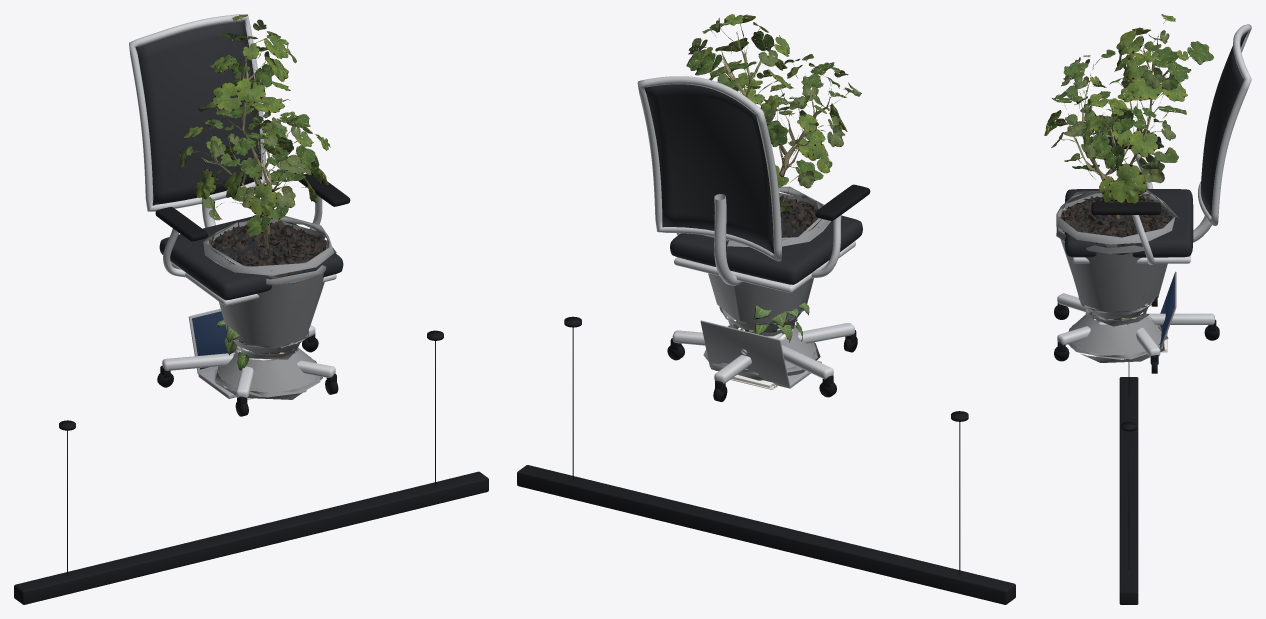
The model's file is props.glb.
3 renders of one model, left to right at view 1: azimuth 30°, elevation 25°; view 2: azimuth 150°, elevation 25°; view 3: azimuth 270°, elevation 25°, orthographic. The views are drawn at different scales.
Visible parts, largest first — view 1: chair_back, potted_plant_01_leaves, potted_plant_01_pot, pd_housing, chair_seat, chair_backframe, potted_plant_01_pebbles, lo_screen, chair_spoke1, potted_plant_01_stem, chair_armpad-1, chair_armpad1; view 2: chair_back, pd_housing, potted_plant_01_leaves, potted_plant_01_pot, chair_seat, chair_backframe, lo_lidshell, chair_spine, chair_pan, potted_plant_01_stem, chair_armpad-1, potted_plant_01_pebbles (+3 smaller); view 3: potted_plant_01_leaves, potted_plant_01_pot, pd_housing, chair_seat, chair_back, potted_plant_01_pebbles, chair_backframe, chair_armpad1, potted_plant_01_stem, chair_spoke0, lo_screen, chair_pan (+4 smaller).
Boxes of the visible parts, x1,y1,x2,y2 form: chair_back: (135,20,261,205); potted_plant_01_leaves: (179,14,330,236); potted_plant_01_pot: (203,214,336,399); pd_housing: (14,471,488,604); chair_seat: (159,214,343,300); chair_backframe: (129,14,266,211); potted_plant_01_pebbles: (211,220,326,277); lo_screen: (192,311,233,369); chair_spoke1: (162,352,235,370); potted_plant_01_stem: (201,41,287,248); chair_armpad-1: (155,207,207,241); chair_armpad1: (299,173,350,206); chair_back: (644,84,774,253); pd_housing: (517,465,1015,604); potted_plant_01_leaves: (686,14,861,211); potted_plant_01_pot: (703,186,830,380); chair_seat: (670,207,862,284); chair_backframe: (637,76,781,261); lo_lidshell: (700,320,789,386); chair_spine: (714,194,742,285); chair_pan: (674,241,855,292); potted_plant_01_stem: (721,32,831,176); chair_armpad-1: (815,184,870,220); potted_plant_01_pebbles: (726,195,819,242); potted_plant_01_leaves: (1044,14,1213,203); potted_plant_01_pot: (1056,189,1178,362); pd_housing: (1119,377,1138,604); chair_seat: (1064,188,1193,257); chair_back: (1200,32,1247,216); potted_plant_01_pebbles: (1060,195,1172,246); chair_backframe: (1198,24,1251,225); chair_armpad1: (1091,202,1161,214); potted_plant_01_stem: (1069,37,1168,218); chair_spoke0: (1147,313,1214,324); lo_screen: (1159,274,1174,347); chair_pan: (1072,255,1190,263).
Bounding box in the file's own units: 1.9 × 2 × 0.7735.
Materials: 27 (3 with a texture image).
